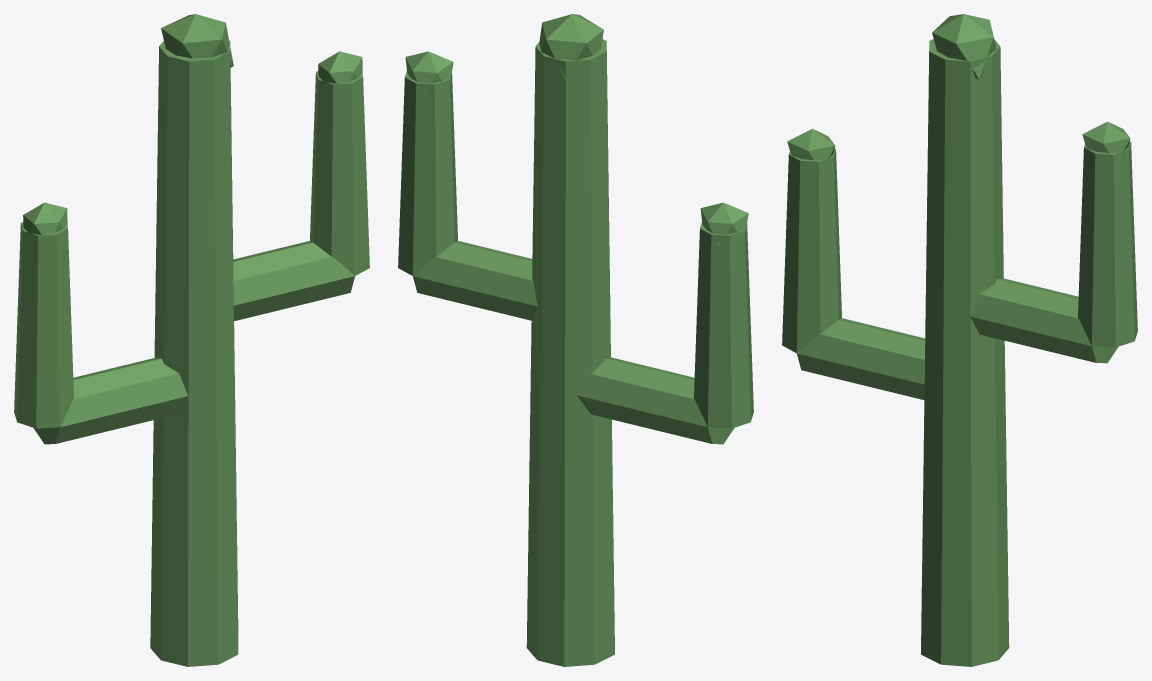
Rendered from cactus_saguaro.glb.
3 views of the same model, side by side, from view 1: azimuth 30°, elevation 25°; view 2: azimuth 150°, elevation 25°; view 3: azimuth 330°, elevation 25° (orthographic).
Parts seen in each view (by area): view 1: cactus_saguaro__static; view 2: cactus_saguaro__static; view 3: cactus_saguaro__static.
Boxes of the visible parts, <box> form: cactus_saguaro__static: <box>14,14,369,666</box>; cactus_saguaro__static: <box>398,14,753,666</box>; cactus_saguaro__static: <box>782,14,1137,666</box>.
Size of the model in its own units: 2.31 by 4 by 0.5043.
